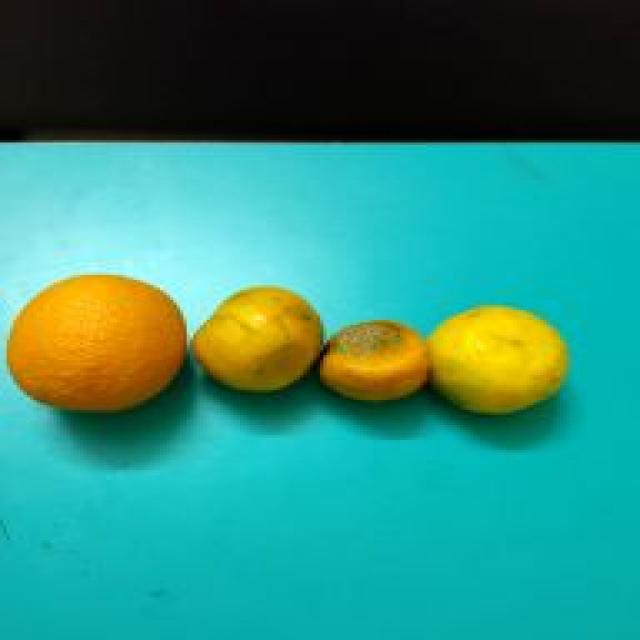Organik: (1, 270, 202, 440), (433, 285, 611, 430), (200, 275, 338, 411), (300, 304, 450, 411)
